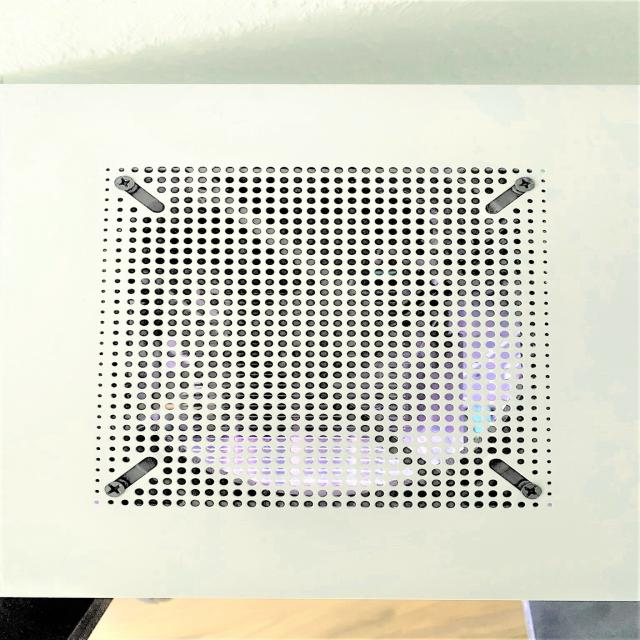PhillipsScrewHead: (519, 481, 543, 501), (112, 174, 138, 192), (512, 175, 536, 193), (102, 481, 126, 498)
